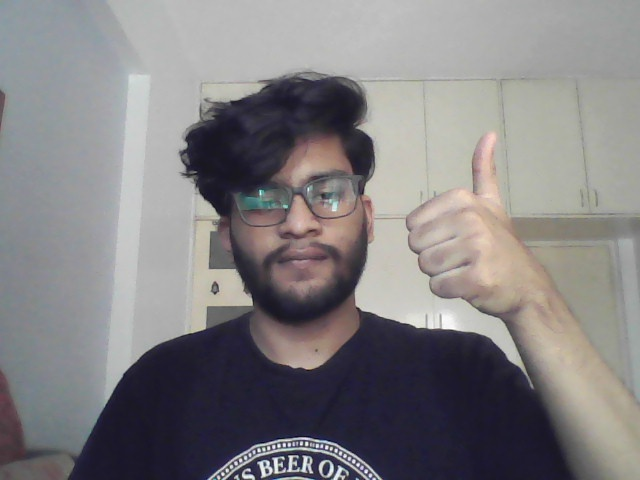Thumbsup: (400, 129, 545, 320)
